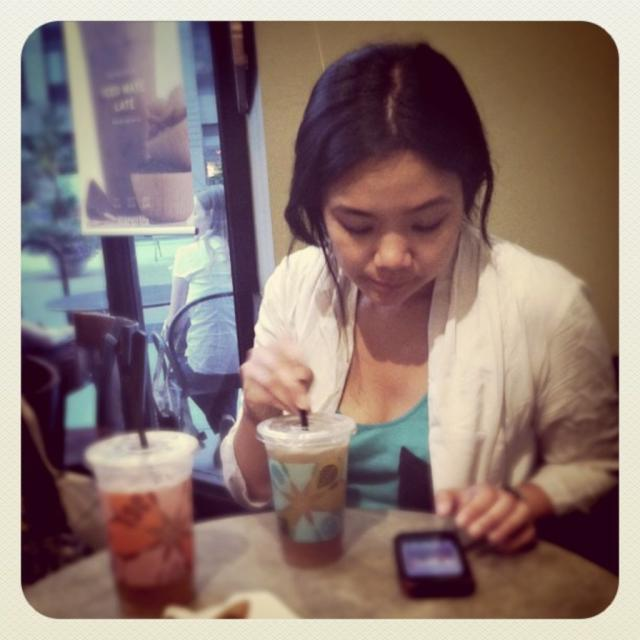Mobile-phone: (399, 532, 488, 604)
